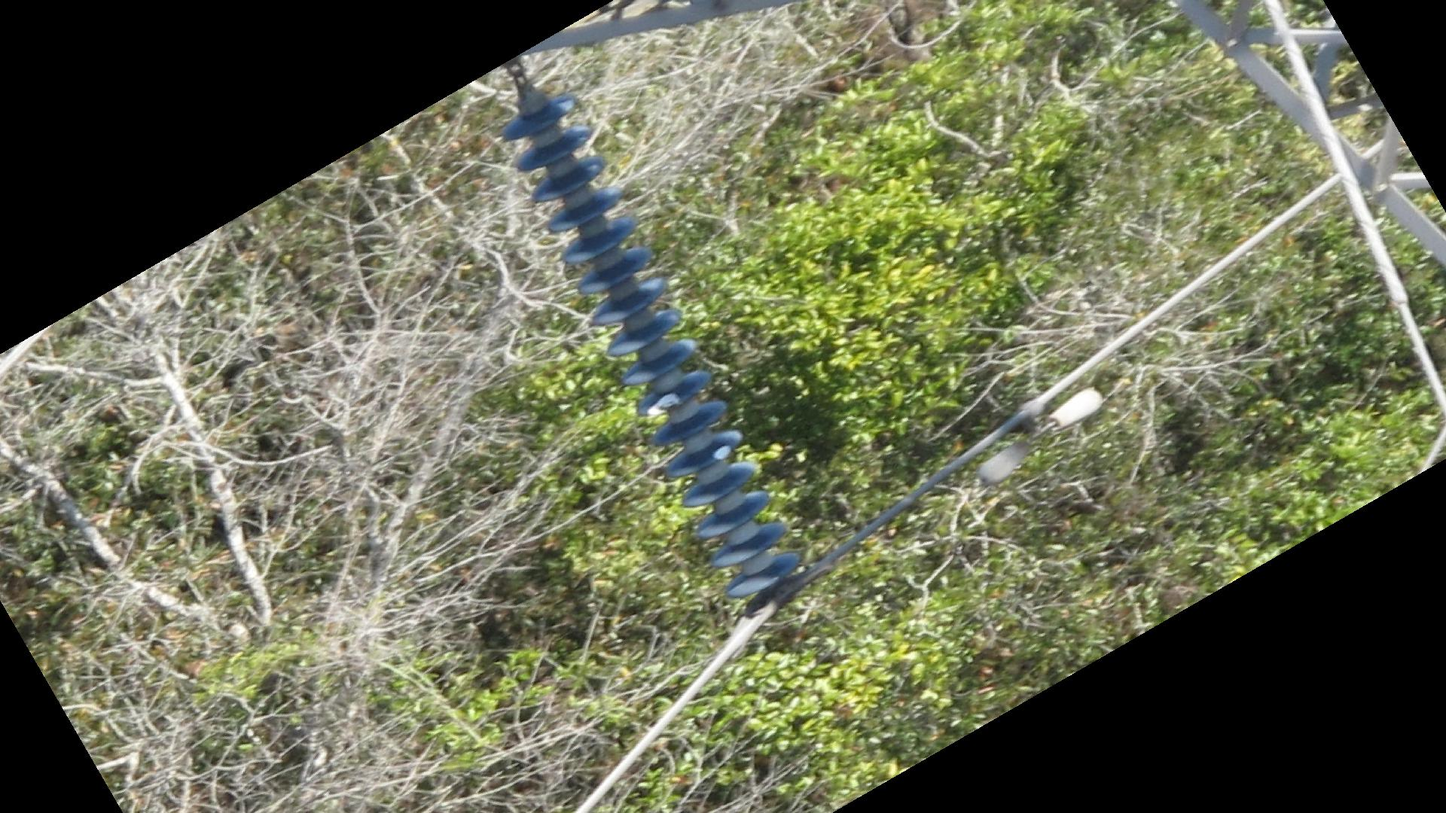insulator: (496, 90, 807, 600)
insulator_breakage: (641, 389, 686, 420), (708, 440, 737, 464)
